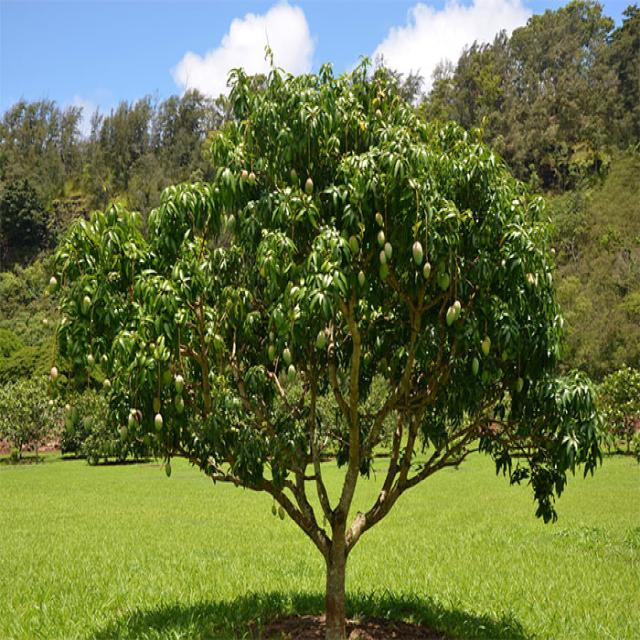Mango-Tree: (33, 36, 608, 604)
